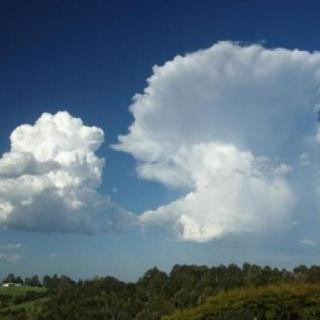Cumulonimbus: (0, 37, 320, 245)
